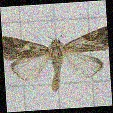Spodoptera litura: (4, 29, 110, 92)
